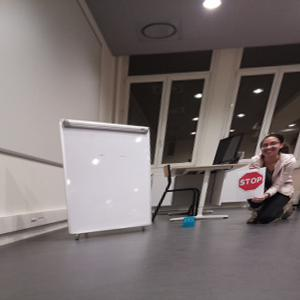big: (59, 118, 153, 237)
small: (182, 216, 195, 227)
